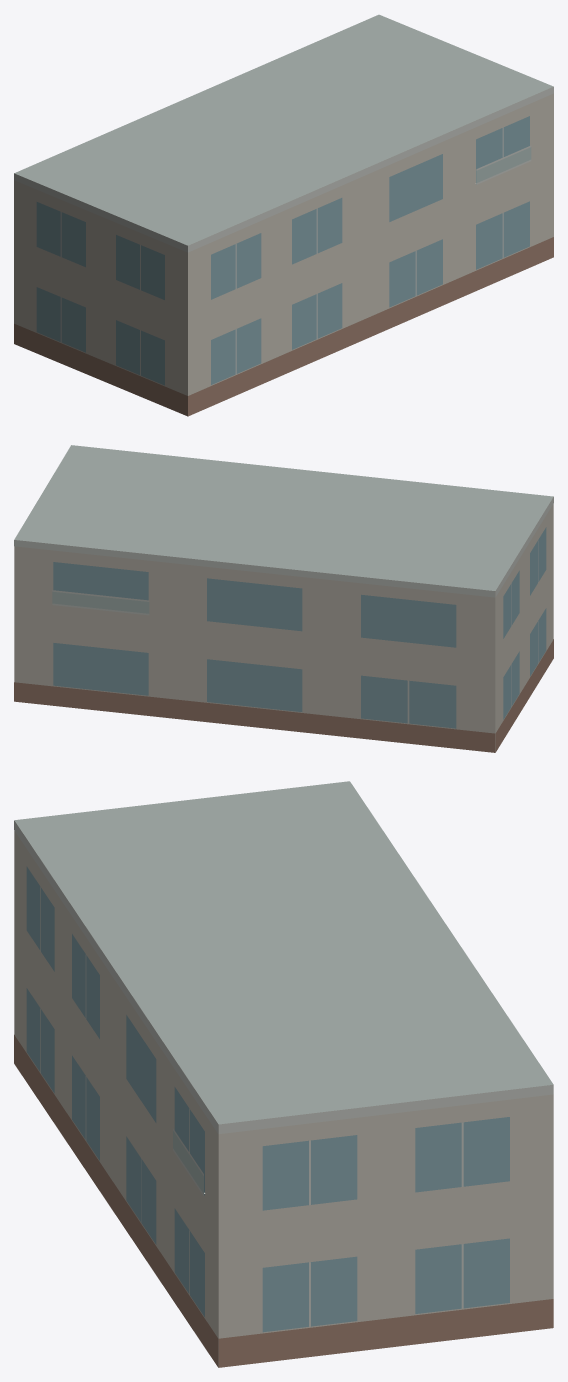
The model's file is survey-upis-32618847.glb.
3 views of the same model, one above another, from view 1: azimuth 30°, elevation 25°; view 2: azimuth 150°, elevation 25°; view 3: azimuth 270°, elevation 25° (orthographic). The views are drawn at different scales.
Parts seen in each view (by area): view 1: survey-upis-32618847.tmp; view 2: survey-upis-32618847.tmp; view 3: survey-upis-32618847.tmp.
Part boxes in pixels (x1,y1,x2,y2): survey-upis-32618847.tmp: (14, 14, 553, 416); survey-upis-32618847.tmp: (14, 445, 553, 752); survey-upis-32618847.tmp: (14, 781, 553, 1367).
Bounding box in the file's own units: 18.48 × 6.1 × 12.27.
